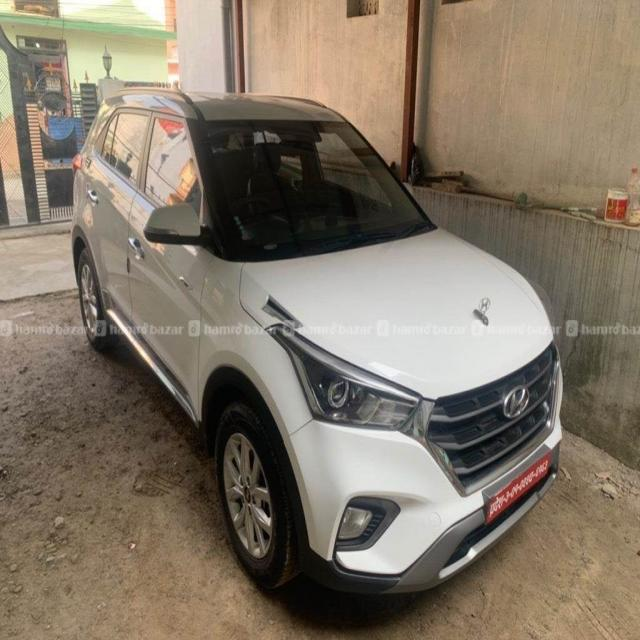License-plate: (483, 453, 552, 523)
